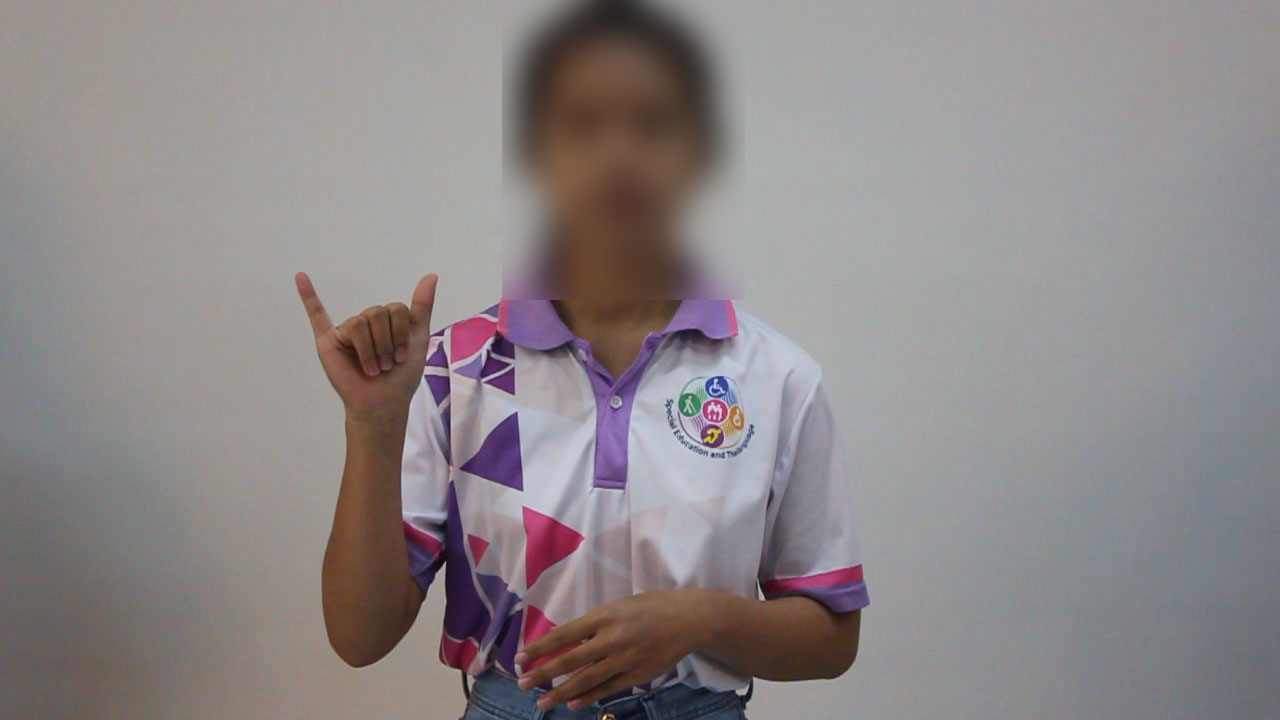yor: (281, 266, 456, 418)
